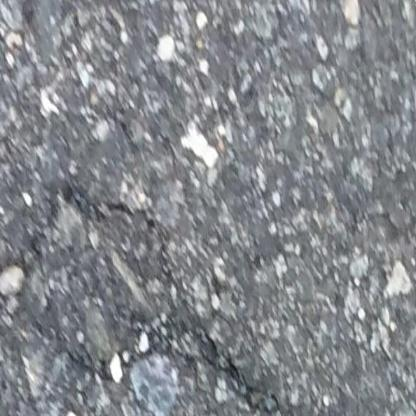Cracks: (0, 177, 309, 416)
